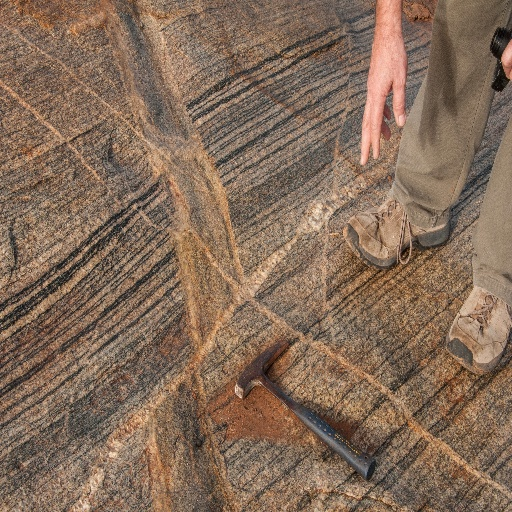hand: (365, 29, 422, 154), (500, 37, 511, 80)
